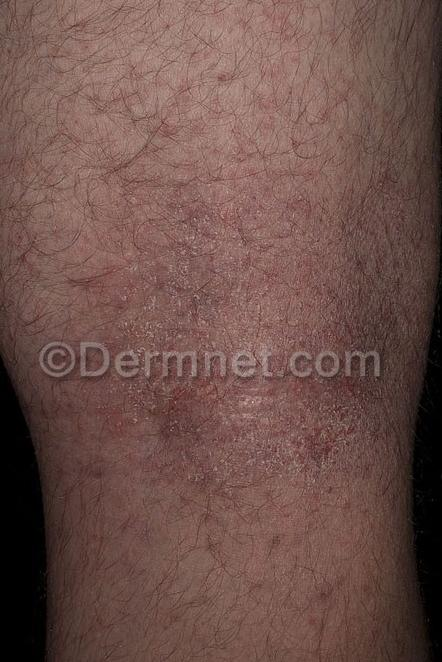Eritema 2: (133, 352, 369, 471)
xerosis 1: (89, 190, 364, 441)
